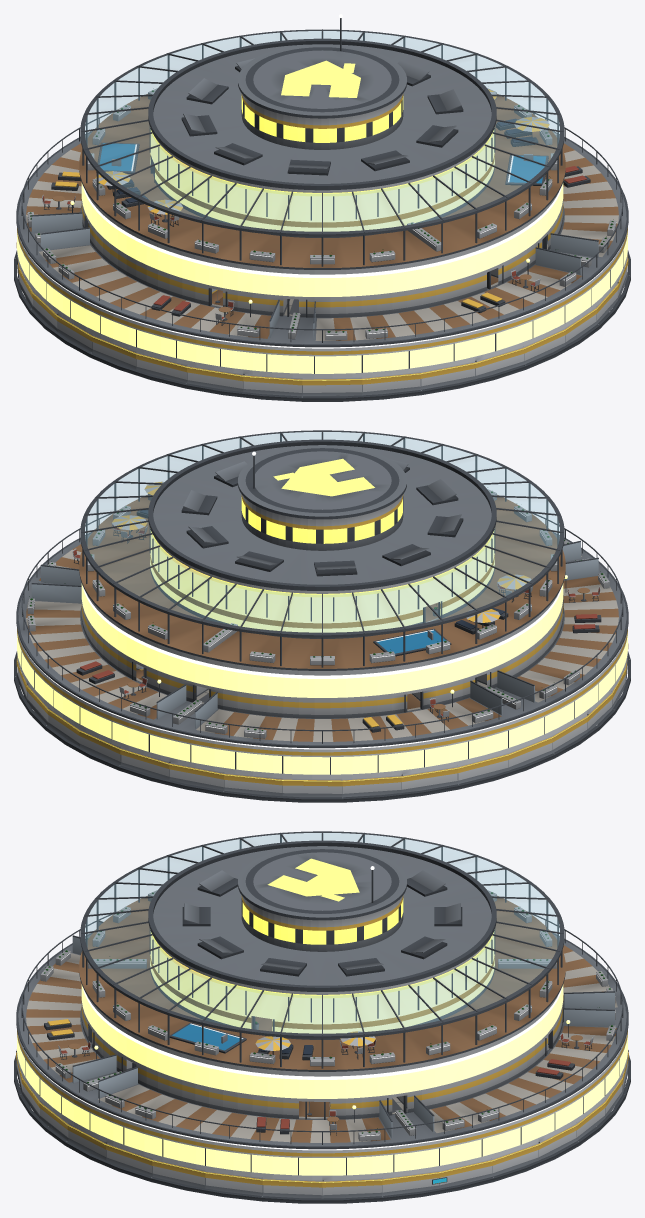
File: apartment_block_m.glb
3 views of the same model, one above another, from view 1: azimuth 30°, elevation 25°; view 2: azimuth 150°, elevation 25°; view 3: azimuth 270°, elevation 25° (orthographic).
Parts seen in each view (by area): view 1: Roof, F1_Terrace, F2_Slab, F1_WallTop, F2_WallTop, F1_Wall, F2_Terrace, F1_Slab, F2_Wall, Base, Upper_21, Upper_20 (+22 smaller); view 2: Roof, F1_Terrace, F2_Slab, F1_WallTop, F2_WallTop, F1_Wall, F2_Terrace, F1_Slab, F2_Wall, Base, Upper_10, Upper_11 (+23 smaller); view 3: Roof, F1_Terrace, F2_Slab, F1_WallTop, F2_WallTop, F1_Wall, F1_Slab, F2_Terrace, F2_Wall, Base, Upper_00, Upper_31 (+25 smaller).
Part boxes in pixels (x1=…): Roof: x1=16, y1=18, x2=628, y2=347; F1_Terrace: x1=21, y1=109, x2=623, y2=342; F2_Slab: x1=79, y1=94, x2=565, y2=269; F1_WallTop: x1=81, y1=183, x2=563, y2=299; F2_WallTop: x1=149, y1=127, x2=495, y2=220; F1_Wall: x1=81, y1=202, x2=563, y2=317; F2_Terrace: x1=87, y1=88, x2=557, y2=264; F1_Slab: x1=18, y1=132, x2=626, y2=344; F2_Wall: x1=150, y1=153, x2=494, y2=237; Base: x1=14, y1=250, x2=630, y2=401; Upper_21: x1=302, y1=346, x2=362, y2=378; Upper_20: x1=243, y1=343, x2=302, y2=377; Roof: x1=16, y1=430, x2=628, y2=748; F1_Terrace: x1=21, y1=510, x2=623, y2=743; F2_Slab: x1=79, y1=495, x2=565, y2=670; F1_WallTop: x1=81, y1=583, x2=563, y2=700; F2_WallTop: x1=149, y1=528, x2=495, y2=621; F1_Wall: x1=81, y1=595, x2=563, y2=718; F2_Terrace: x1=87, y1=481, x2=557, y2=665; F1_Slab: x1=18, y1=533, x2=626, y2=745; F2_Wall: x1=150, y1=553, x2=494, y2=638; Base: x1=14, y1=651, x2=630, y2=802; Upper_10: x1=282, y1=747, x2=342, y2=779; Upper_11: x1=342, y1=744, x2=401, y2=778; Roof: x1=16, y1=831, x2=628, y2=1149; F1_Terrace: x1=21, y1=911, x2=623, y2=1144; F2_Slab: x1=79, y1=896, x2=565, y2=1071; F1_WallTop: x1=81, y1=984, x2=563, y2=1101; F2_WallTop: x1=149, y1=929, x2=495, y2=1022; F1_Wall: x1=81, y1=996, x2=563, y2=1119; F1_Slab: x1=18, y1=934, x2=626, y2=1146; F2_Terrace: x1=88, y1=890, x2=556, y2=1066; F2_Wall: x1=150, y1=954, x2=494, y2=1039; Base: x1=14, y1=1055, x2=630, y2=1203; Upper_00: x1=322, y1=1146, x2=381, y2=1180; Upper_31: x1=263, y1=1146, x2=322, y2=1180.
Size of the model in its own units: 39.71 by 16.22 by 39.71.
